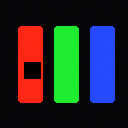1 square: (24, 62, 40, 78)
